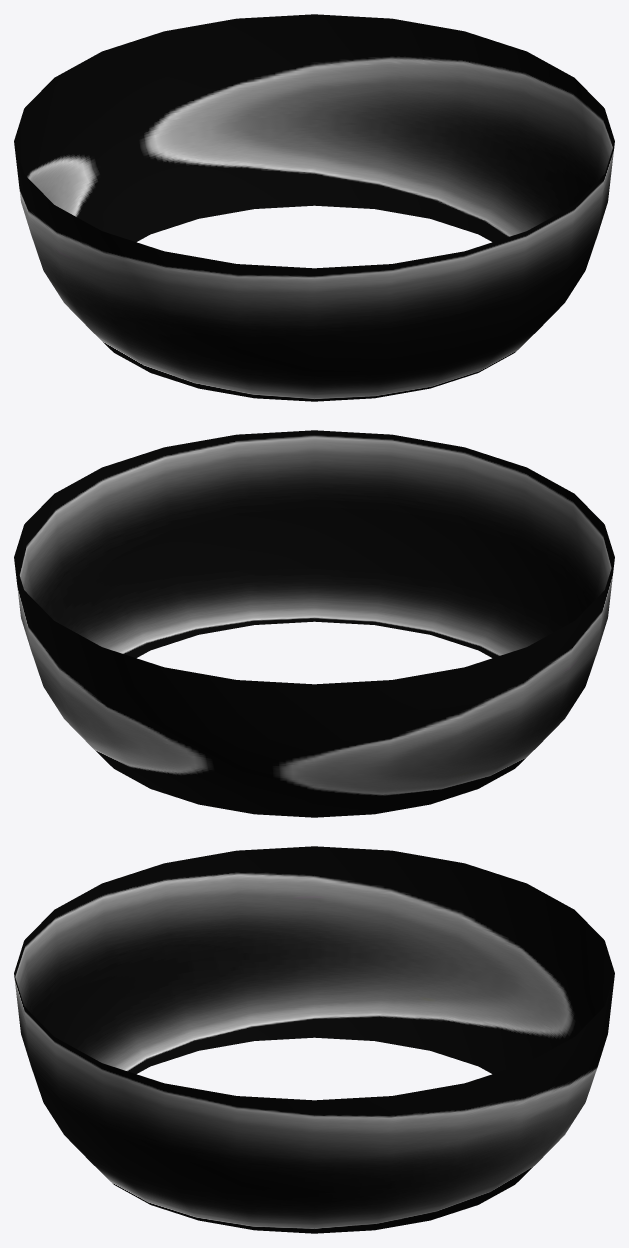
The model's file is 0382_megaliekongzuo_ring_z01.glb.
3 renders of one model, top to bottom at view 1: azimuth 30°, elevation 25°; view 2: azimuth 150°, elevation 25°; view 3: azimuth 270°, elevation 25°, orthographic.
Size of the model in its own units: 2.2 by 0.656 by 2.2.
1 material, 1 textured.
